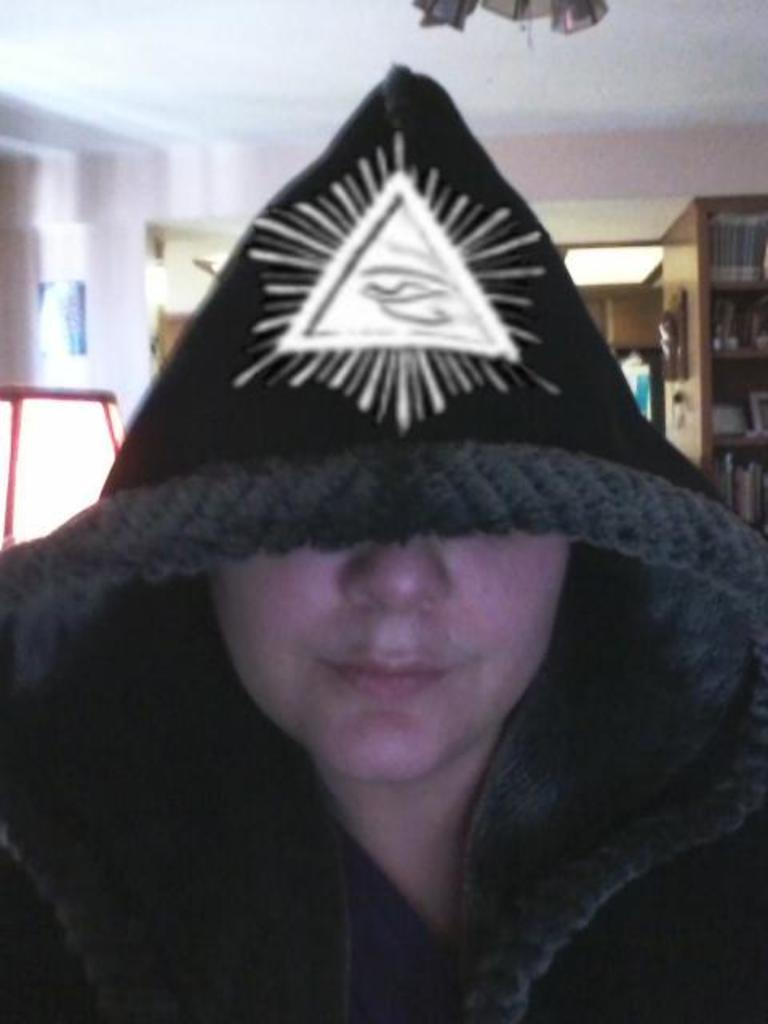Person: (0, 64, 768, 1024)
